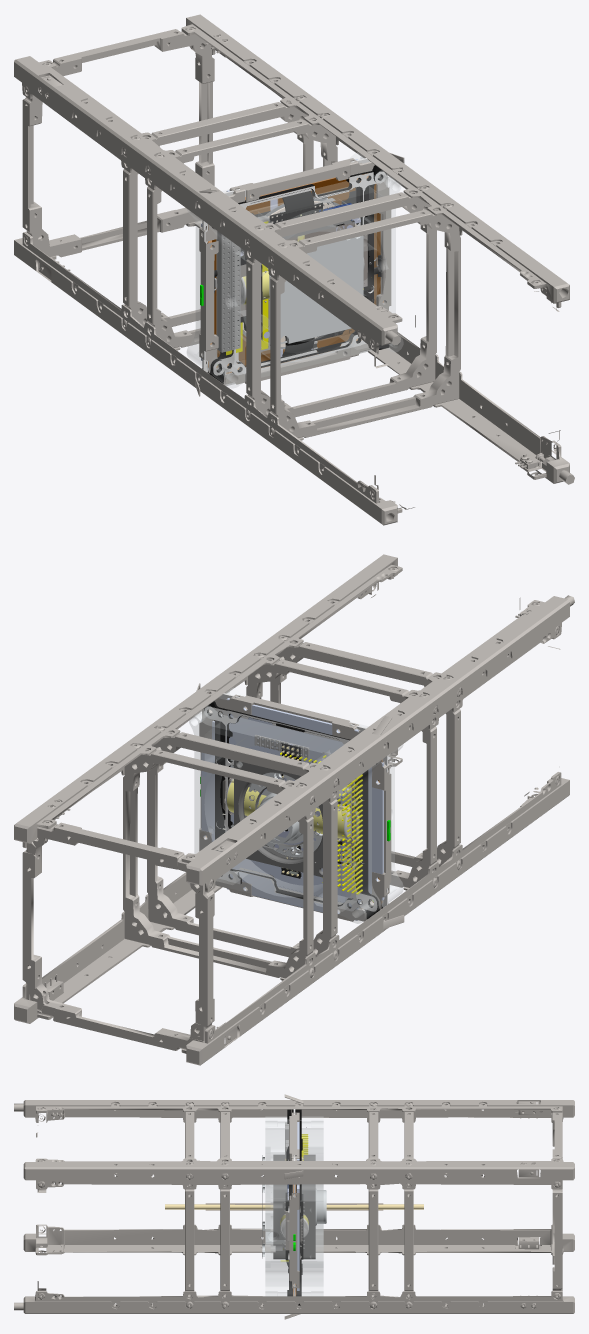
File: FRONTIER_CubeSat_v1.4.1.glb
The picture shows the model from 3 angles, top to bottom: view 1: azimuth 30°, elevation 25°; view 2: azimuth 150°, elevation 25°; view 3: azimuth 270°, elevation 25°; orthographic projection. The views are drawn at different scales.
Visible parts, largest first — view 1: SM03_Cubesat_Structure-1, Mother_Base^Tether_Deployer_v3-1, Canadensys_Camera-1, sdrDock-03-withShields-02(Default_-_Low)-1SDRDockBaseShieldN (×2), Board_6_(Tether_Deployer)-1, sdrDock-03-withShields-02(Default_-_Low)-1SDR_PCB_2021-07-07, Tether_Cover^Tether_Deployer_v3-1, CubeSat_Board_6_-_Center-1, NanoSense_NovAtel_GPS-Kit-1, 18650-bracket-bp4_bp4-4-1, Board_9_(Proton_Detector)-1; view 2: SM03_Cubesat_Structure-1, Mother_Base^Tether_Deployer_v3-1, Camera_Mount_Plate-1, sdrDock-03-withShields-02(Default_-_Low)-1SDRDockBaseShieldN (×2), Canadensys_Camera-1, Board_6_(Tether_Deployer)-1, CubeSat_Board_6_-_Center-1; view 3: SM03_Cubesat_Structure-1, Mother_Base^Tether_Deployer_v3-1, Canadensys_Camera-1, sdrDock-03-withShields-02(Default_-_Low)-1SDRDockBaseShieldN (×2), Tether_Pull^Tether_Deployer_v3-1, antenna-assembly-top-2U-40_ant430-2U-4(Stored)-3-1antenna-17, Camera_Mount_Plate-1, Board_6_(Tether_Deployer)-1.
Part boxes in pixels (x1,y1,x2,y2): SM03_Cubesat_Structure-1: (14,14,574,525); Mother_Base^Tether_Deployer_v3-1: (187,152,403,388); Canadensys_Camera-1: (261,220,363,345); sdrDock-03-withShields-02(Default_-_Low)-1SDRDockBaseShieldN (×2): (202,165,389,383); Board_6_(Tether_Deployer)-1: (221,198,376,355); sdrDock-03-withShields-02(Default_-_Low)-1SDR_PCB_2021-07-07: (212,174,380,368); Tether_Cover^Tether_Deployer_v3-1: (216,187,376,360); CubeSat_Board_6_-_Center-1: (216,198,350,352); NanoSense_NovAtel_GPS-Kit-1: (237,217,367,332); 18650-bracket-bp4_bp4-4-1: (283,191,314,356); Board_9_(Proton_Detector)-1: (257,199,360,356); SM03_Cubesat_Structure-1: (14,554,574,1065); Mother_Base^Tether_Deployer_v3-1: (189,688,403,923); Camera_Mount_Plate-1: (201,698,384,920); sdrDock-03-withShields-02(Default_-_Low)-1SDRDockBaseShieldN (×2): (204,693,388,919); Canadensys_Camera-1: (234,760,338,877); Board_6_(Tether_Deployer)-1: (224,735,362,894); CubeSat_Board_6_-_Center-1: (222,735,359,880); SM03_Cubesat_Structure-1: (14,1094,574,1319); Mother_Base^Tether_Deployer_v3-1: (265,1116,323,1296); Canadensys_Camera-1: (262,1154,326,1259); sdrDock-03-withShields-02(Default_-_Low)-1SDRDockBaseShieldN (×2): (287,1109,301,1305); Tether_Pull^Tether_Deployer_v3-1: (205,1203,383,1210); antenna-assembly-top-2U-40_ant430-2U-4(Stored)-3-1antenna-17: (165,1204,403,1209); Camera_Mount_Plate-1: (297,1121,299,1290); Board_6_(Tether_Deployer)-1: (281,1122,308,1284).
Bounding box in the file's own units: 3569 × 3569 × 11354.
